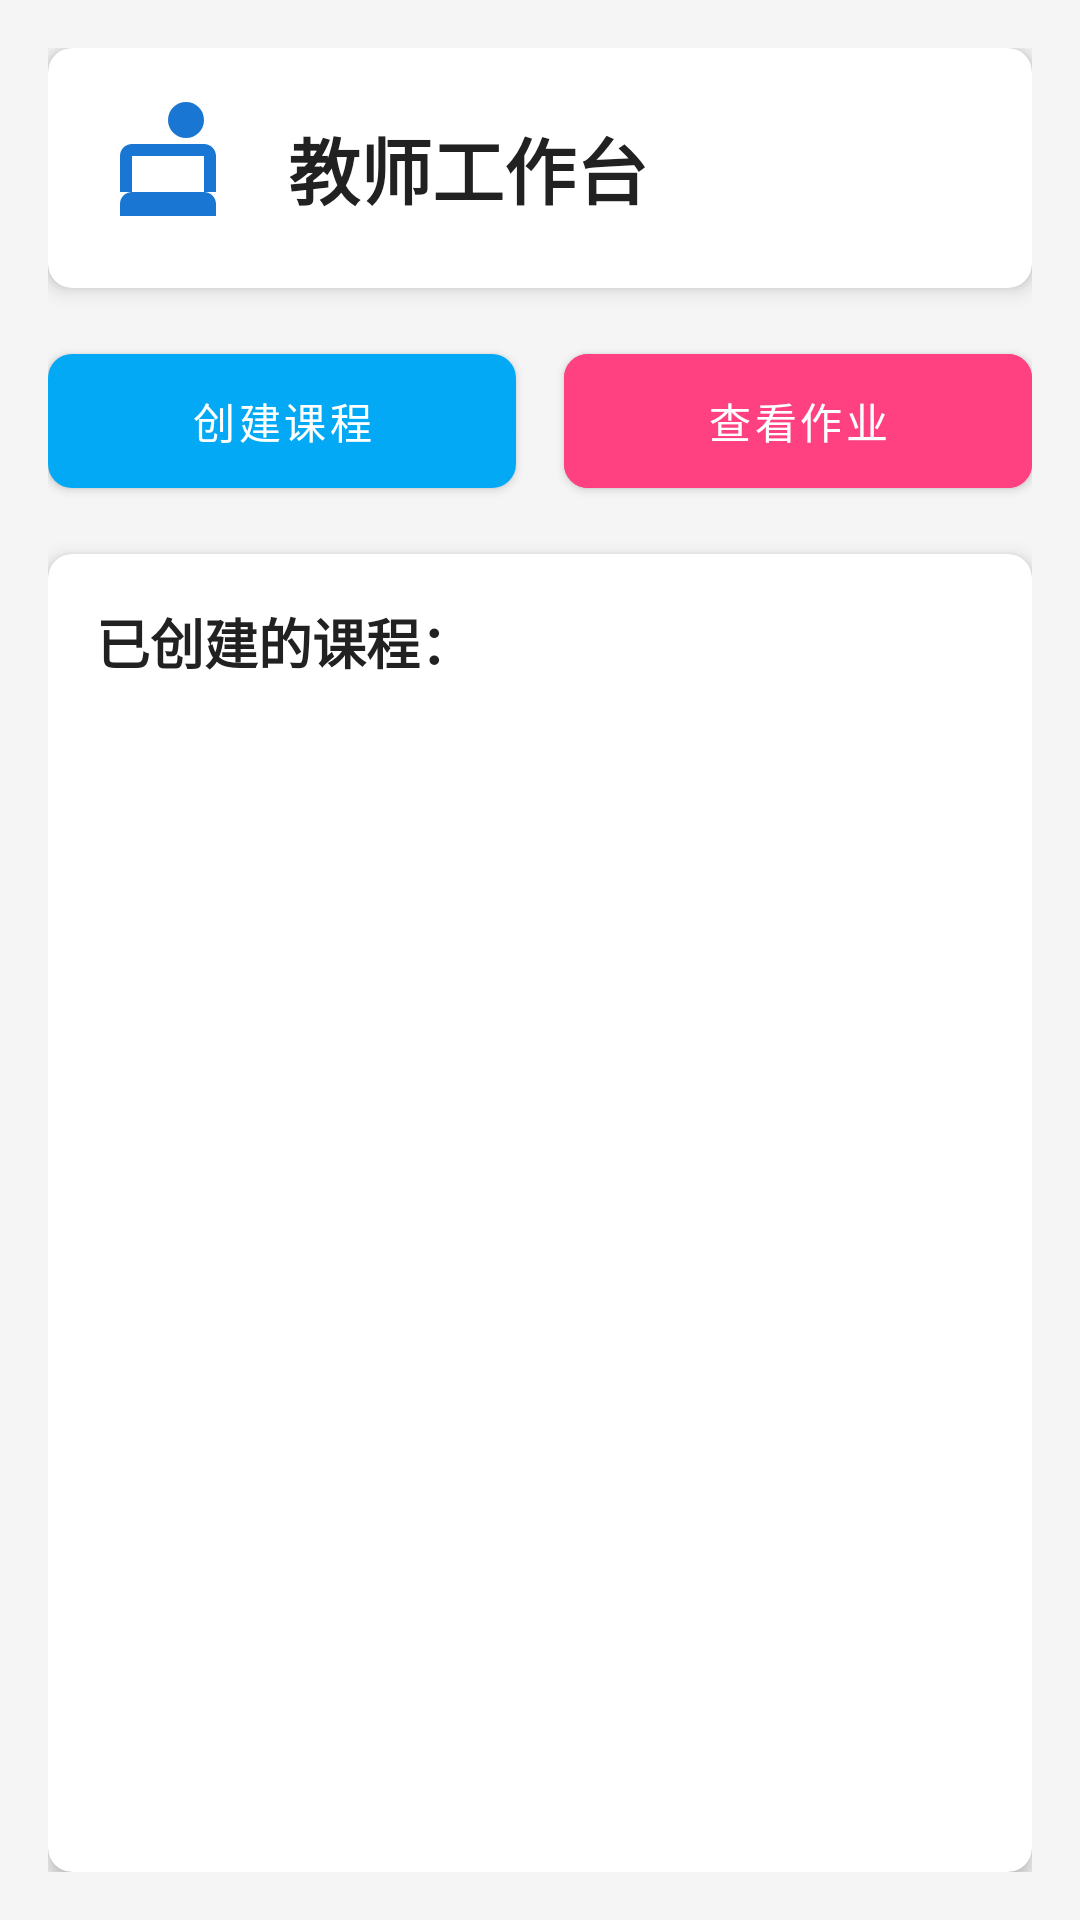

Icon click points for this 1080px×1920px phone screenshot, format (x,y):
教师图标: (168,159)
